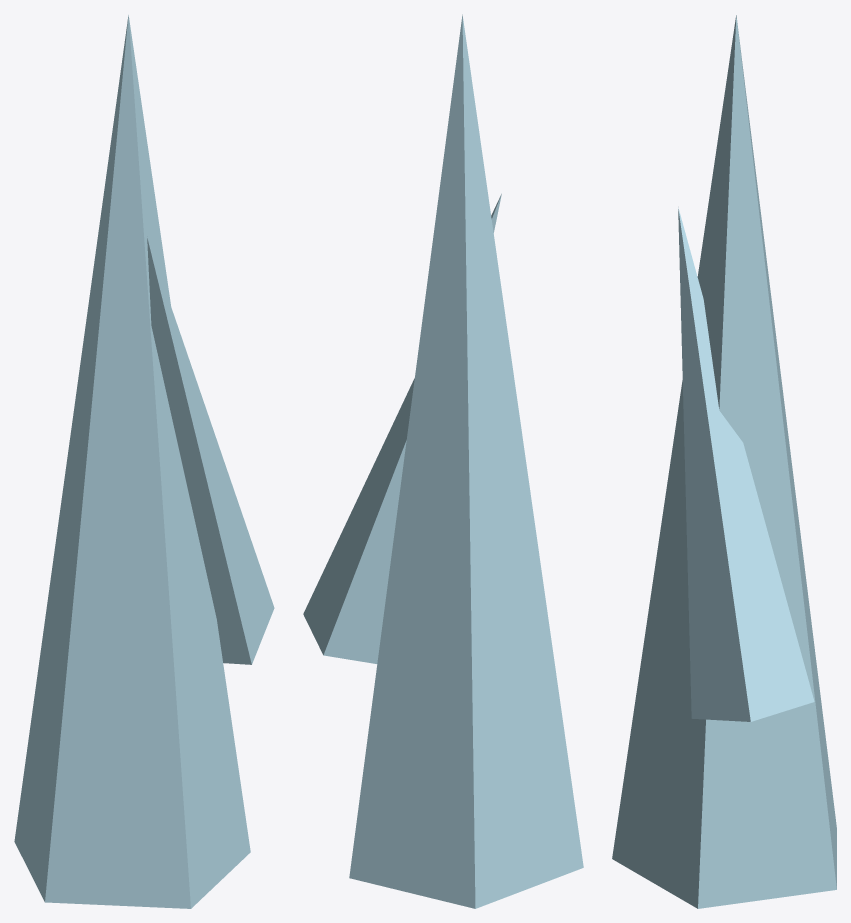
File: ice_spike.obj
3 renders of one model, left to right at view 1: azimuth 30°, elevation 25°; view 2: azimuth 150°, elevation 25°; view 3: azimuth 270°, elevation 25°, orthographic.
Visible parts, largest first — view 1: spike_main, spike_side; view 2: spike_main, spike_side; view 3: spike_main, spike_side.
Boxes of the visible parts, x1,y1,x2,y2 form: spike_main: (14, 15, 250, 908); spike_side: (147, 238, 274, 664); spike_main: (349, 14, 583, 908); spike_side: (303, 193, 501, 663); spike_main: (612, 15, 836, 908); spike_side: (678, 207, 814, 721).
Bounding box in the file's own units: 0.1894 × 0.6 × 0.1447.
